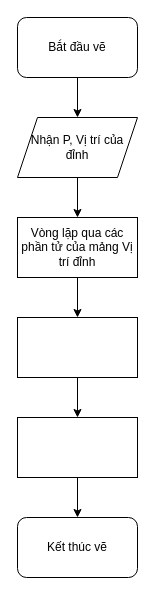
Some shapes in this 155 by 595 pixel diagram are drawn without their labels. Here are the shapes that lost their labels. From the top down, the centre of each, then its label:
At point (77, 347): "Cho biến tạm X Y chứa toạ độ X Y của đỉnh".
At point (77, 447): "Sử dụng p5.js vẽ hình eclipse và hiện tên đỉnh trên hình đó".
